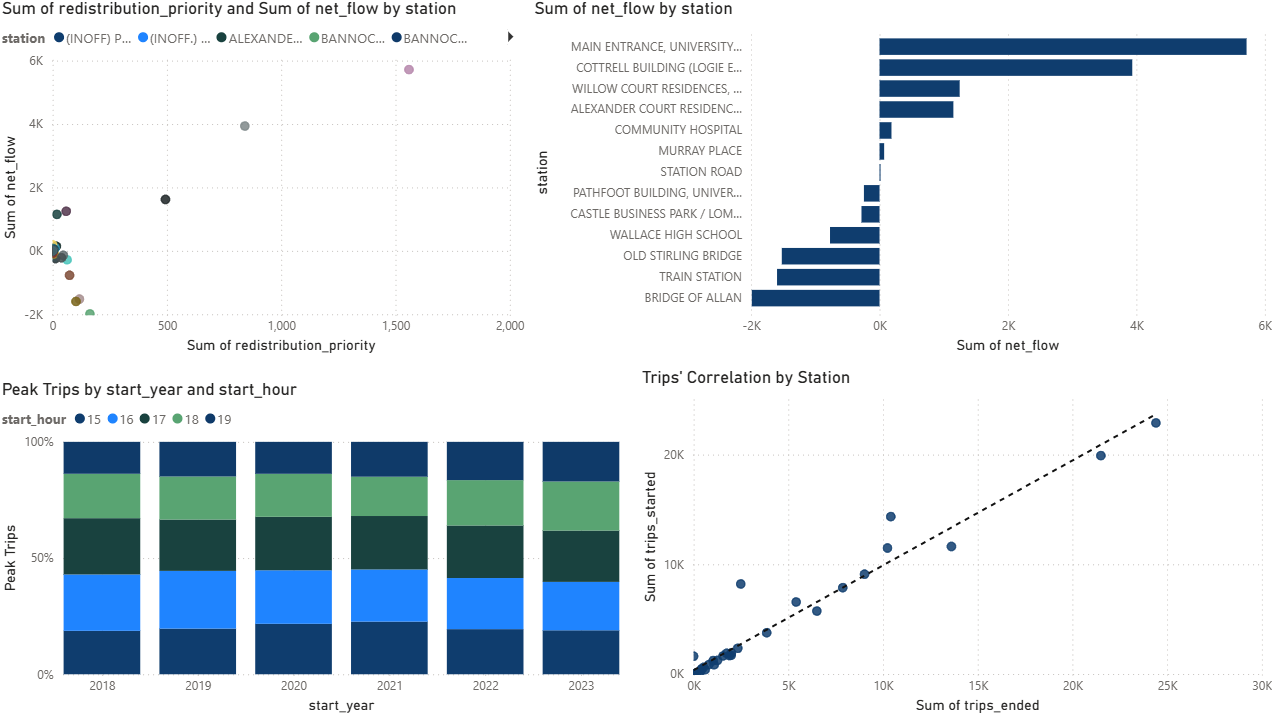

The page's visual inventory and layout, read from the dashboard file:
{"tool":"powerbi","page":{"name":"Stations' Inflow/Outflow","canvas":[1280,720],"ordinal":1},"visuals":[{"type":"scatterChart","title":"Trips'' Correlation by Station","fields":{"Category":["dim_station.station"],"Y":["Sum(nextbike_behavioural_interventions.trips_started)"],"X":["Sum(nextbike_behavioural_interventions.trips_ended)"]},"box":[640,368.8,640,351.2],"z":0},{"type":"clusteredBarChart","fields":{"Category":["dim_station.station"],"Y":["Sum(nextbike_behavioural_interventions.net_flow)"]},"box":[532.5,0,747.5,360],"z":1000},{"type":"hundredPercentStackedColumnChart","fields":{"Category":["Next bike Stirling 2018 - 2023.start_year"],"Y":["Next bike Stirling 2018 - 2023.Peak Trips"],"Series":["Next bike Stirling 2018 - 2023.start_hour"]},"box":[0,381.2,627.5,338.8],"z":2000},{"type":"scatterChart","fields":{"X":["Sum(nextbike_behavioural_interventions.redistribution_priority)"],"Y":["Sum(nextbike_behavioural_interventions.net_flow)"],"Series":["dim_station.station"]},"box":[0,0,533,360],"z":3000}]}

Visuals, with their boxes in screenshot pixels (x1, y1, x2, y2), scaled from the page's 1280x720 canvas onto the 1275x717 screenshot:
"Trips'' Correlation by Station" scatterChart: 638:367:1274:716
clusteredBarChart - dim_station.station x Sum(nextbike_behavioural_interventions.net_flow): 530:0:1274:358
hundredPercentStackedColumnChart - Next bike Stirling 2018 - 2023.start_year x Next bike Stirling 2018 - 2023.Peak Trips: 0:380:625:716
scatterChart - Sum(nextbike_behavioural_interventions.redistribution_priority) x Sum(nextbike_behavioural_interventions.net_flow): 0:0:531:358
